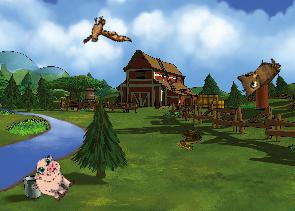eagle: (76, 8, 132, 57)
owl: (231, 48, 283, 101)
pig: (24, 151, 80, 206)
